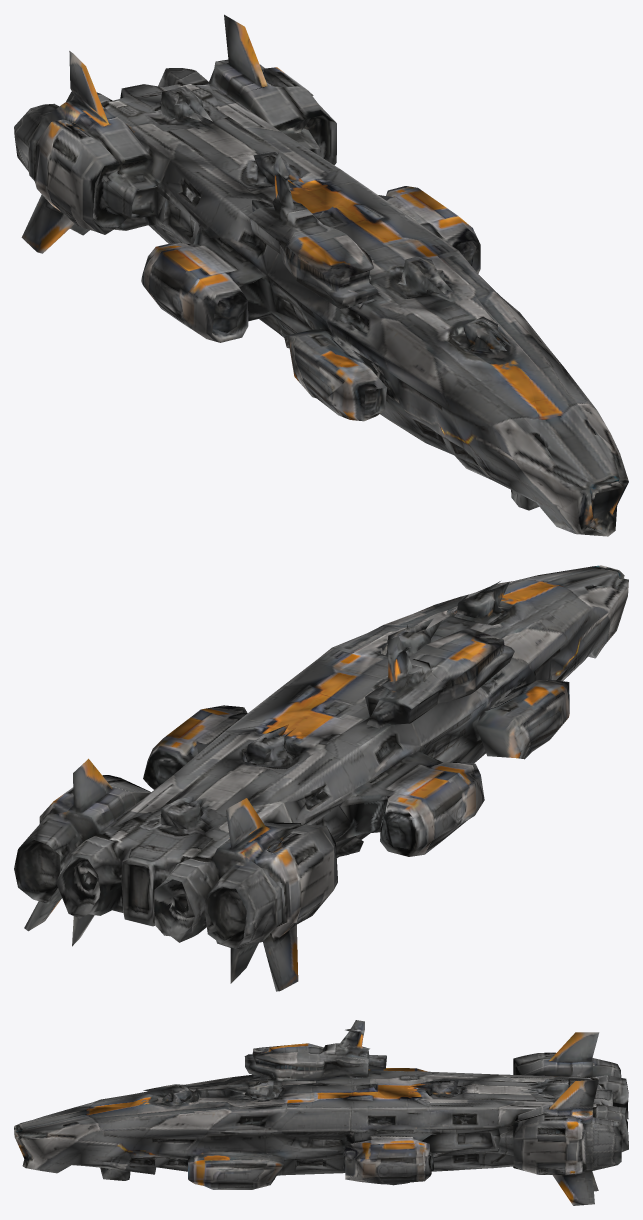
Rendered from tripo-rebaked-3000.glb.
3 views of the same model, one above another, from view 1: azimuth 30°, elevation 25°; view 2: azimuth 150°, elevation 25°; view 3: azimuth 270°, elevation 25° (orthographic). The views are drawn at different scales.
Parts seen in each view (by area): view 1: Low; view 2: Low; view 3: Low.
Part boxes in pixels (<box>): Low: <box>14,14,628,536</box>; Low: <box>14,565,628,991</box>; Low: <box>14,1020,628,1205</box>.
Bounding box in the file's own units: 0.3347 × 0.2521 × 0.9826.
1 material, 1 textured.
